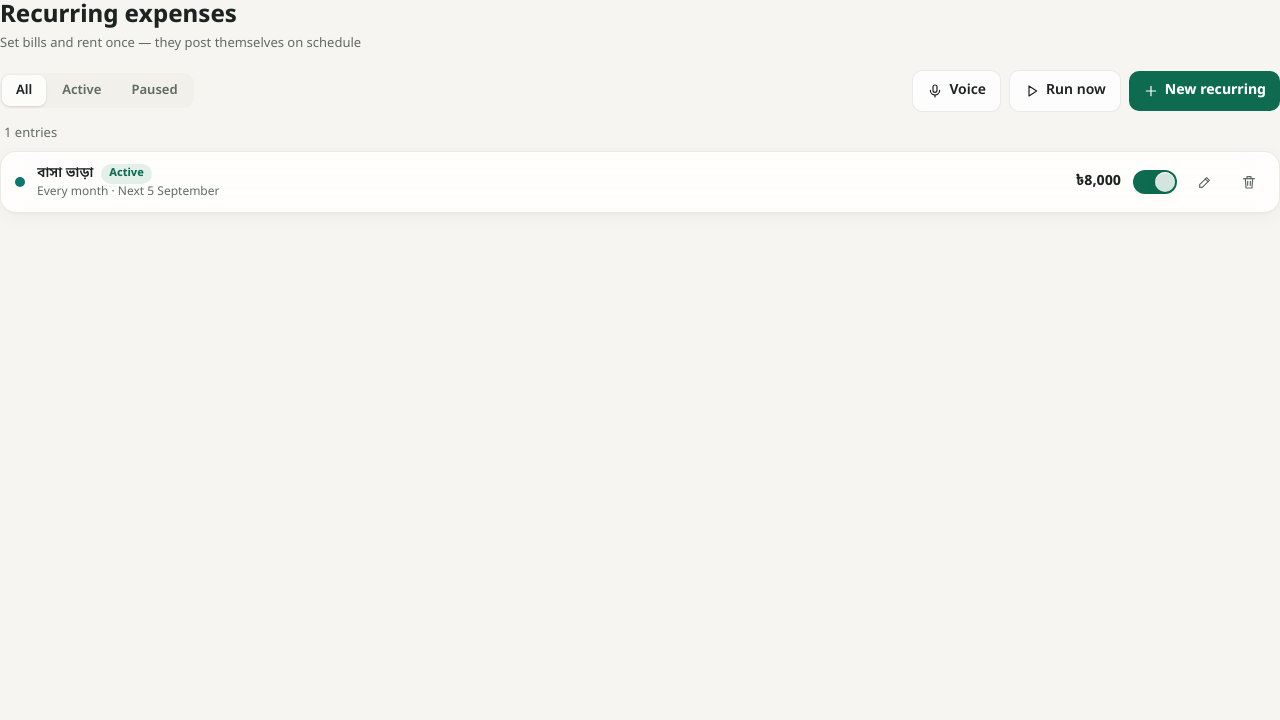
Test: Recurring screen › creates a rule through the form with a normalized RecurringIn body
The width and height of the screenshot is (1280, 720).
Expected: the text "বাসা ভাড়া" is shown, [37,164,93,183]
Click the button "New recurring" at (1204, 90), box [1129,70,1279,110]
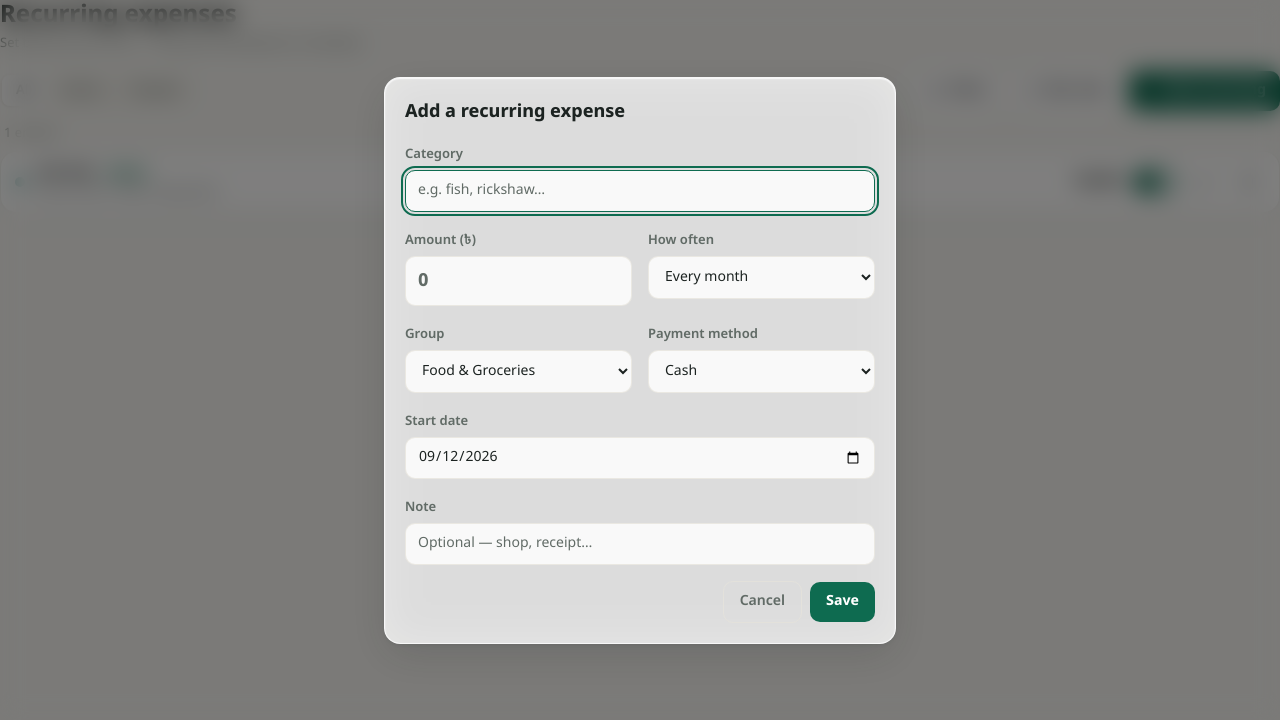
Result: the dialog is shown at [384,76,896,644]
Type "ইন্টারনেট" into the field labelled "Category" at (640, 190), box [405,170,875,212]
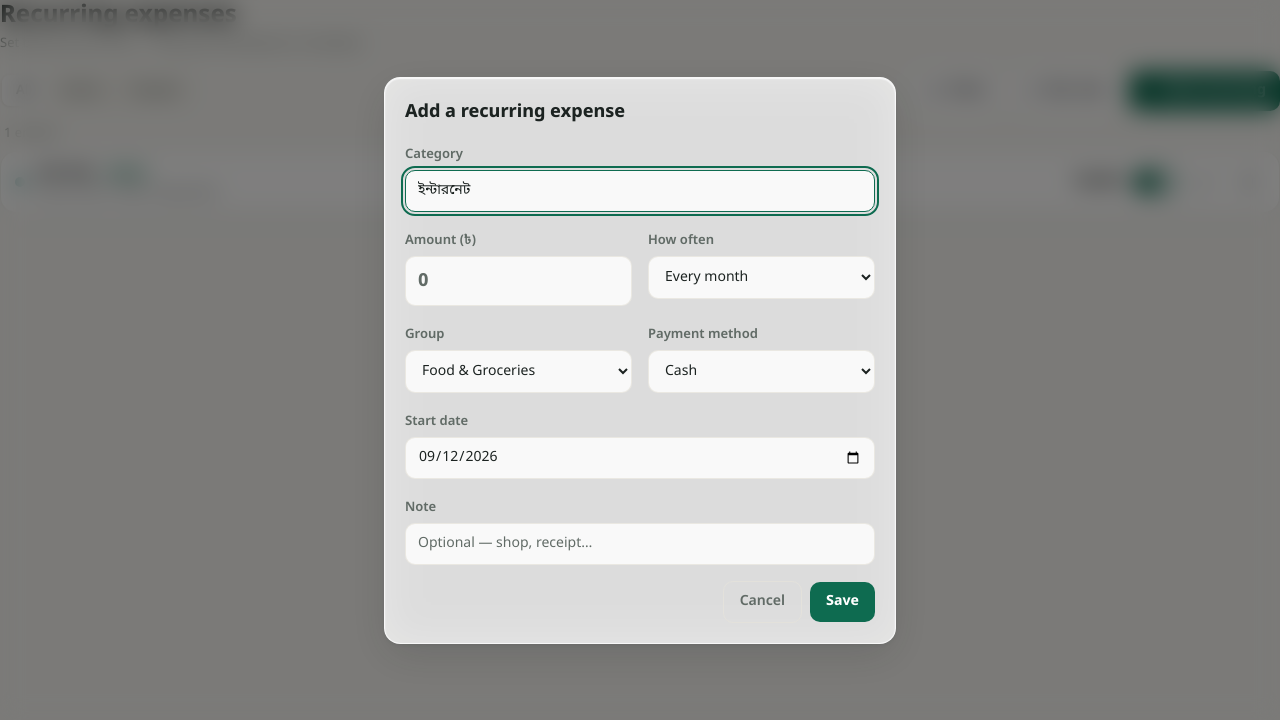
Type "১০০০" into the field labelled "Amount (৳)" at (518, 280), box [405,256,632,306]
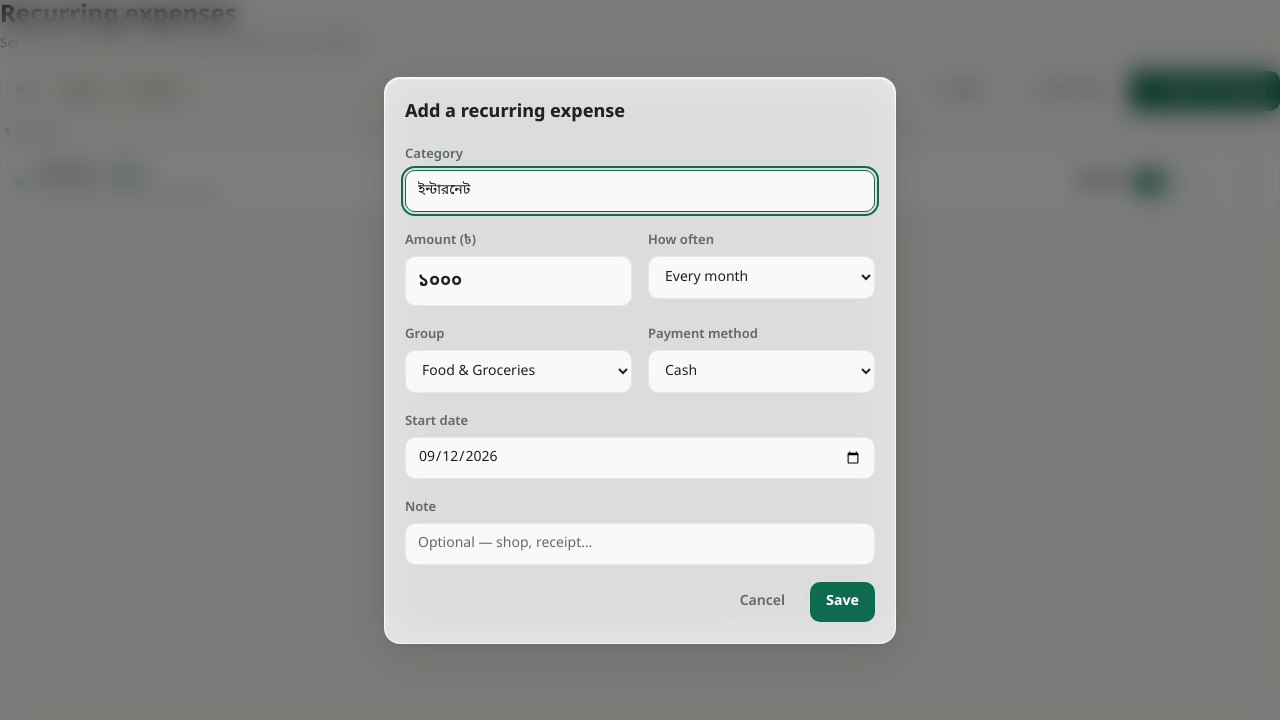
Click the button "Save" at (843, 602), box [810,582,875,622]
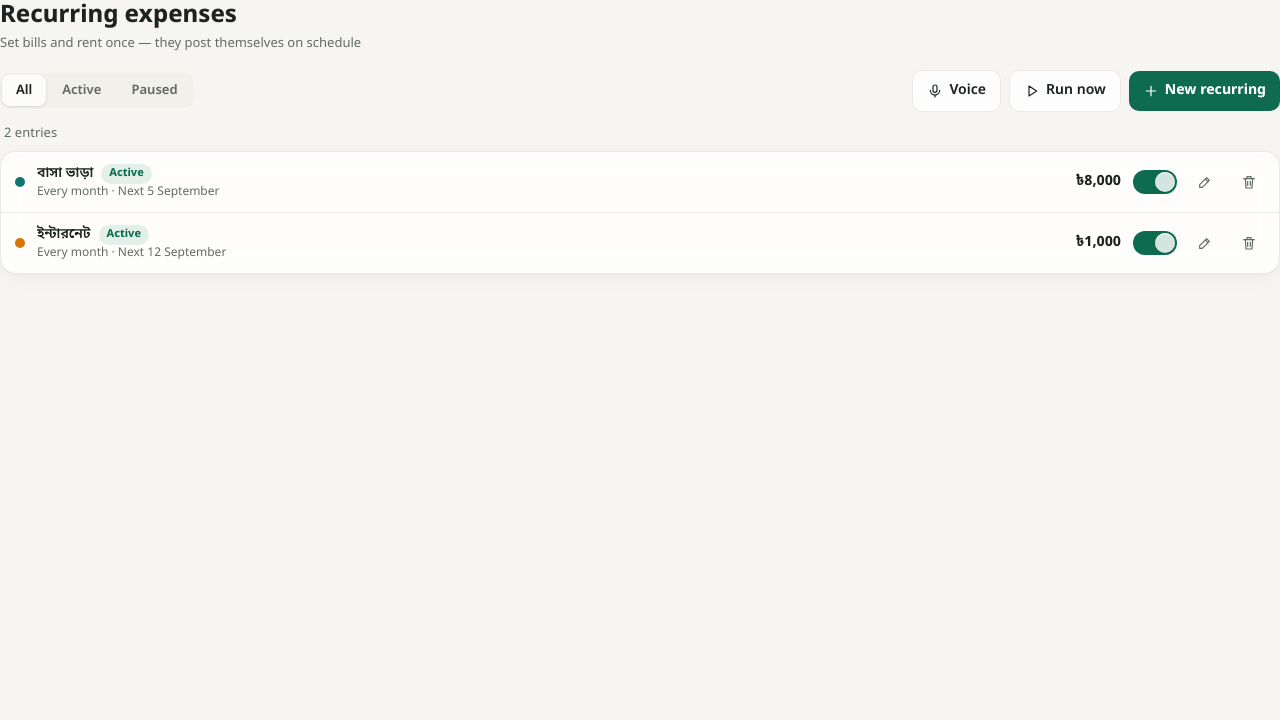
Result: the text "ইন্টারনেট" is shown at [37,225,91,244]
Result: the dialog is gone
